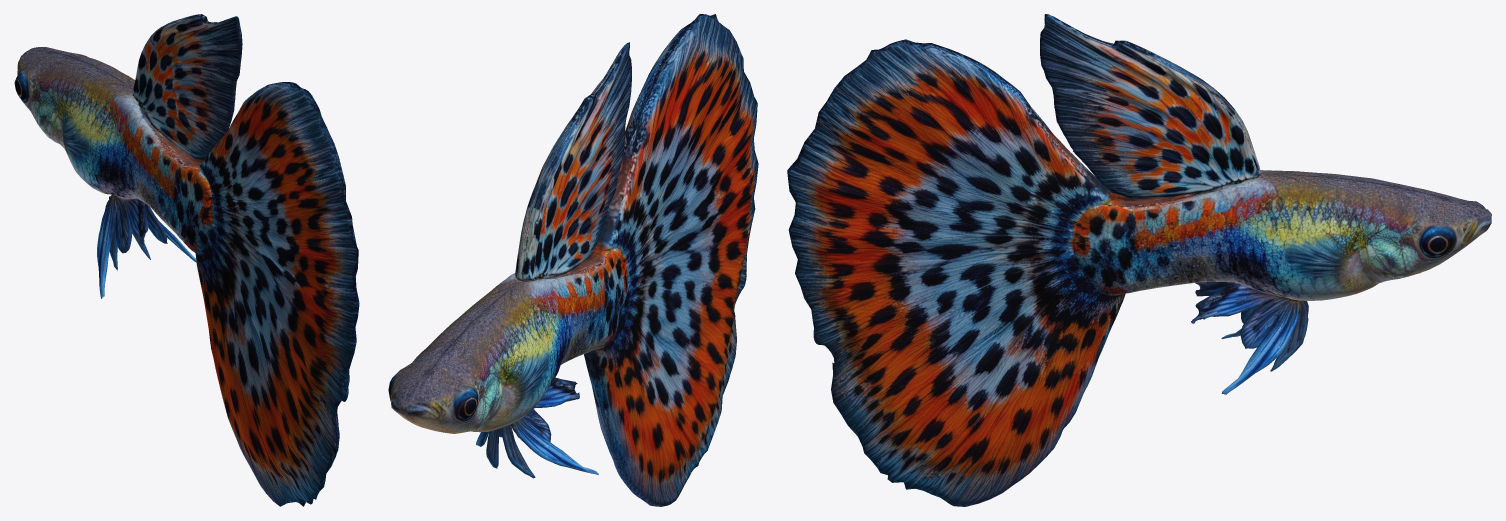
The model's file is guppy.glb.
The picture shows the model from 3 angles, left to right: view 1: azimuth 30°, elevation 25°; view 2: azimuth 150°, elevation 25°; view 3: azimuth 270°, elevation 25°; orthographic projection. The views are drawn at different scales.
Visible parts, largest first — view 1: tripo_part_0, tripo_part_1, tripo_part_2; view 2: tripo_part_0, tripo_part_1, tripo_part_2; view 3: tripo_part_0, tripo_part_1, tripo_part_2.
Boxes of the visible parts, box(x1,y1,x2,y2) form: tripo_part_0: box(195, 82, 359, 506); tripo_part_1: box(14, 47, 211, 298); tripo_part_2: box(132, 14, 242, 160); tripo_part_0: box(584, 14, 758, 506); tripo_part_1: box(388, 247, 626, 478); tripo_part_2: box(515, 42, 631, 281); tripo_part_0: box(787, 39, 1125, 506); tripo_part_1: box(1072, 170, 1491, 394); tripo_part_2: box(1040, 14, 1260, 199).
Size of the model in its own units: 0.1874 by 0.7524 by 0.9764.
3 materials, 3 textured.
